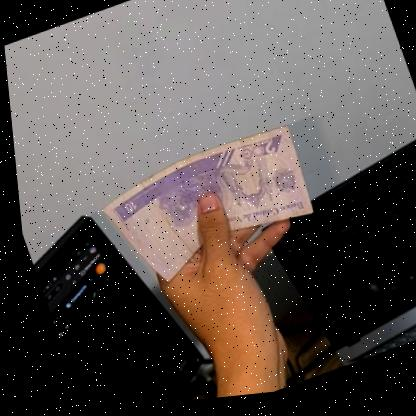ten-back-vef: (88, 124, 322, 297)
